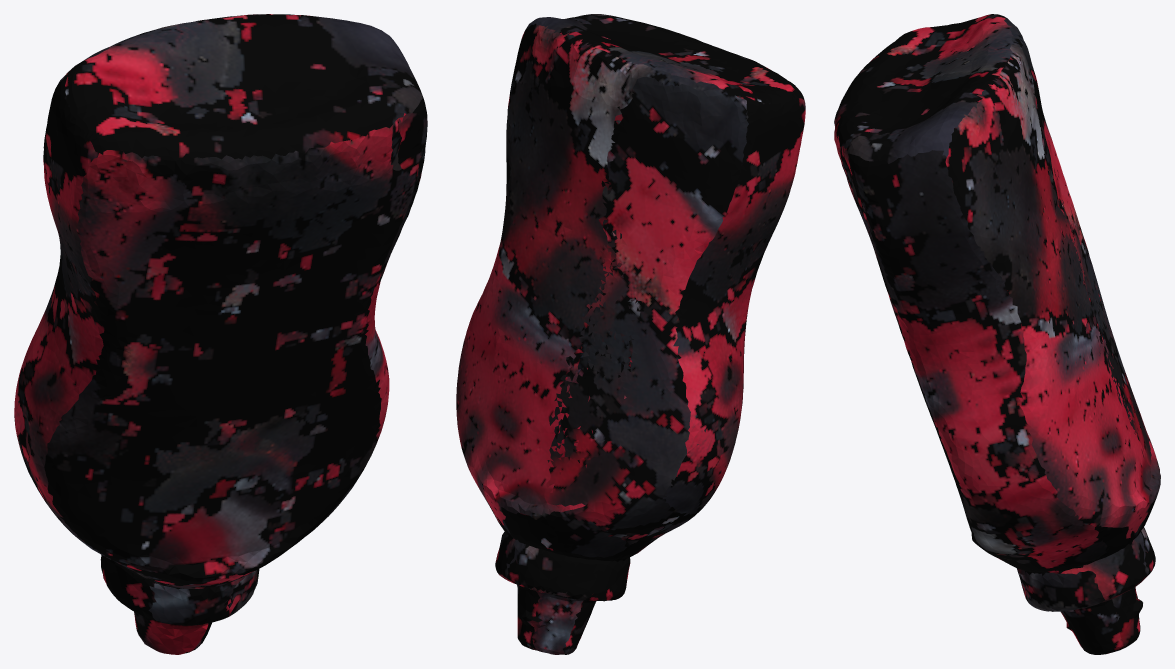
The picture shows the model from 3 angles, left to right: view 1: azimuth 30°, elevation 25°; view 2: azimuth 150°, elevation 25°; view 3: azimuth 270°, elevation 25°; orthographic projection. The views are drawn at different scales.
Bounding box in the file's own units: 0.1021 × 0.1908 × 0.0977.
